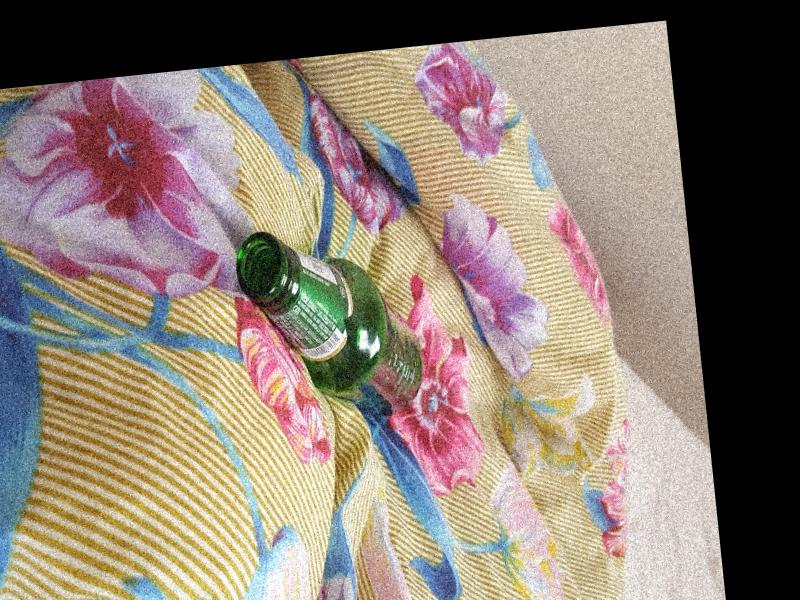Beer: (230, 214, 427, 429)
